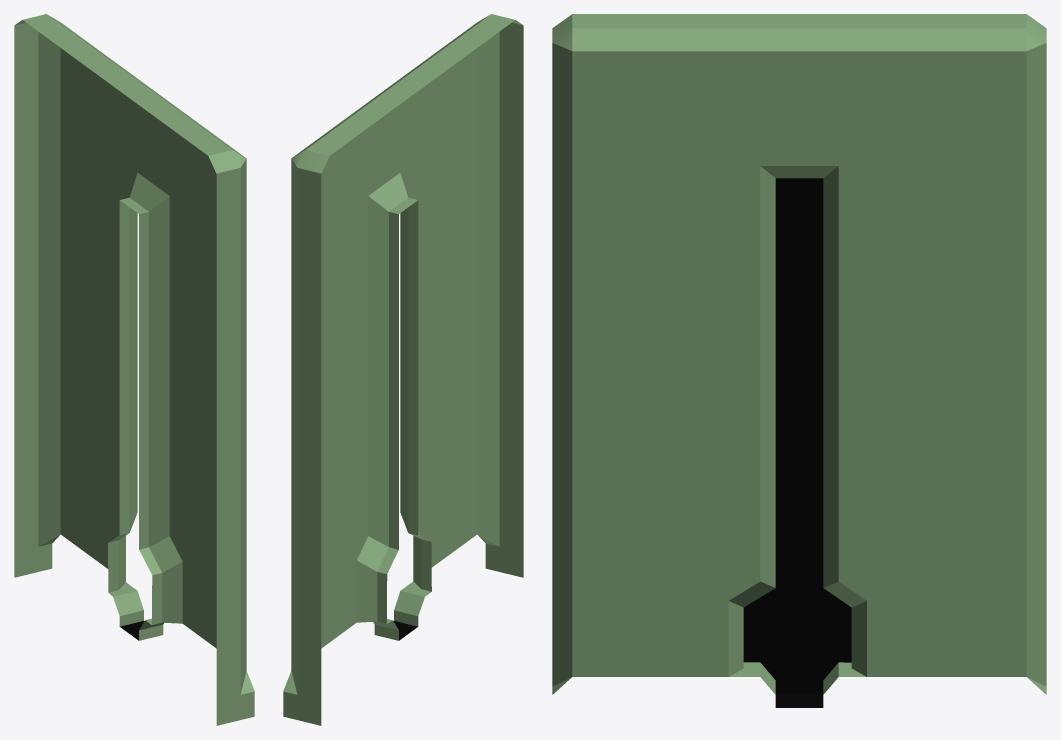
The model's file is SpinTrap_WallEnd.fbx.
3 renders of one model, left to right at view 1: azimuth 30°, elevation 25°; view 2: azimuth 150°, elevation 25°; view 3: azimuth 270°, elevation 25°, orthographic. The views are drawn at different scales.
Parts seen in each view (by area): view 1: SpinTrap_FloorWallEnd; view 2: SpinTrap_FloorWallEnd; view 3: SpinTrap_FloorWallEnd.
Boxes of the visible parts, bbox=[...] form: SpinTrap_FloorWallEnd: bbox=[14, 14, 254, 725]; SpinTrap_FloorWallEnd: bbox=[283, 14, 523, 725]; SpinTrap_FloorWallEnd: bbox=[552, 14, 1046, 707].
Bounding box in the file's own units: 6.72 × 94.6 × 61.51.
